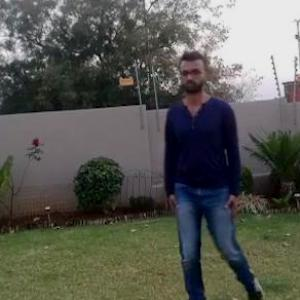follow: (158, 52, 240, 299)
